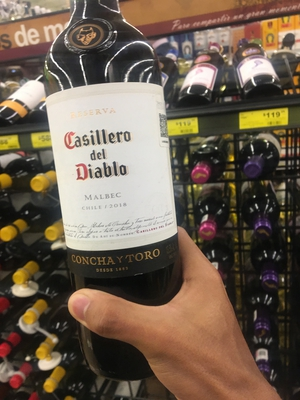casillero del diablo malbec: (33, 13, 218, 380)
